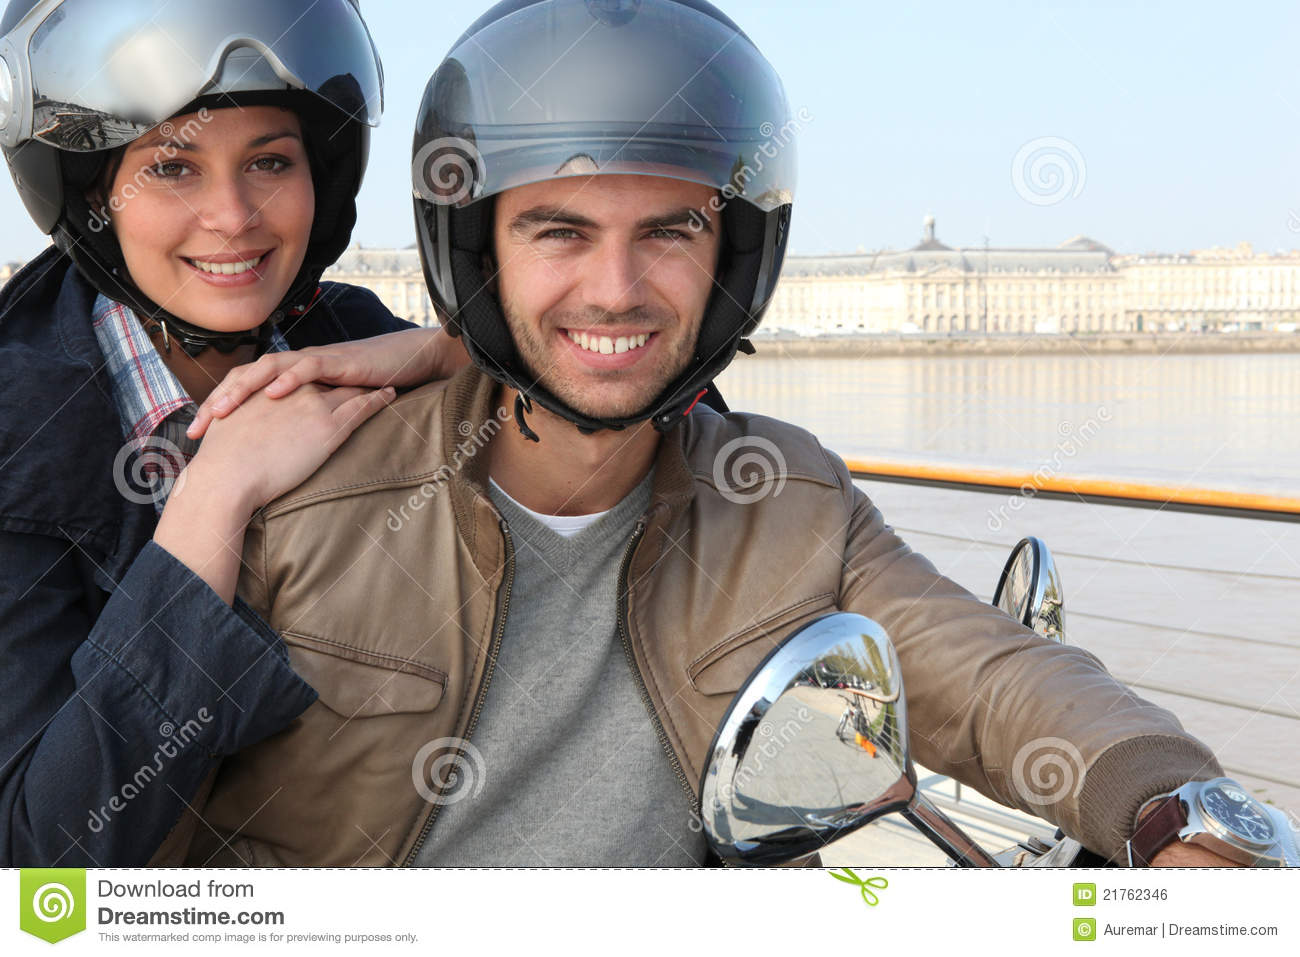helmet: (402, 39, 842, 377), (7, 1, 376, 249)
